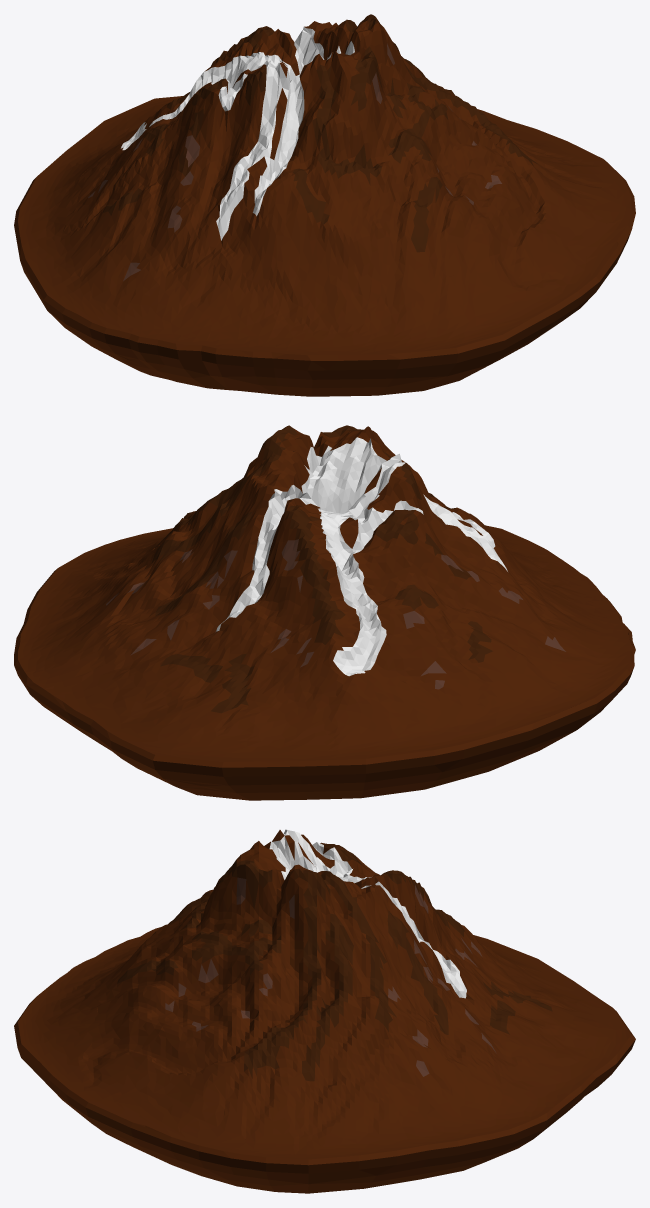
The model's file is Volcan.fbx.
3 views of the same model, one above another, from view 1: azimuth 30°, elevation 25°; view 2: azimuth 150°, elevation 25°; view 3: azimuth 270°, elevation 25° (orthographic). The views are drawn at different scales.
Visible parts, largest first — view 1: Landscape, Landscape.001; view 2: Landscape, Landscape.001; view 3: Landscape, Landscape.001.
Boxes of the visible parts, x1,y1,x2,y2 form: Landscape: (18,14,631,355); Landscape.001: (14,160,635,396); Landscape: (18,425,631,761); Landscape.001: (14,568,635,800); Landscape: (18,829,631,1159); Landscape.001: (14,997,635,1193).
Bounding box in the file's own units: 213 × 121 × 220.
